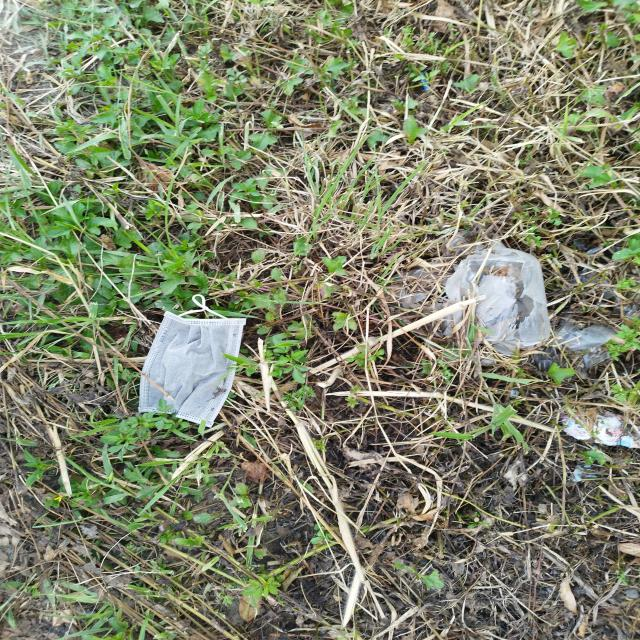bag: (445, 242, 553, 368)
mask: (142, 294, 246, 427)
